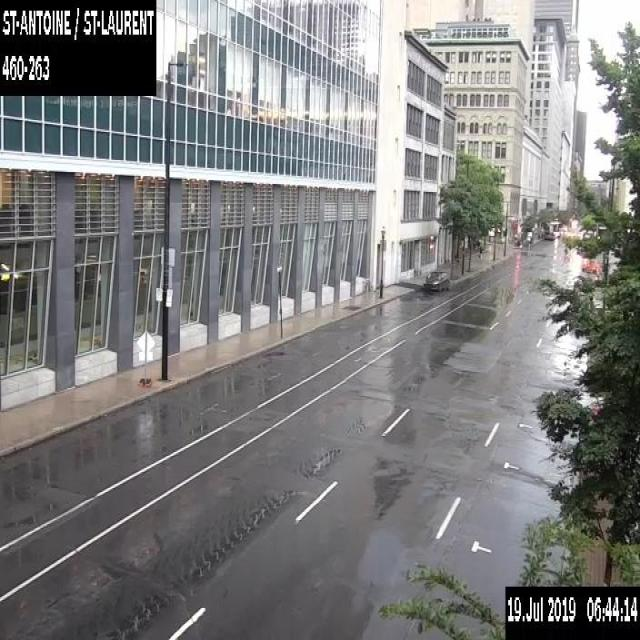bus: (543, 219, 561, 238)
construction: (134, 329, 156, 388), (582, 258, 600, 273)
vehicle: (422, 270, 450, 291)
